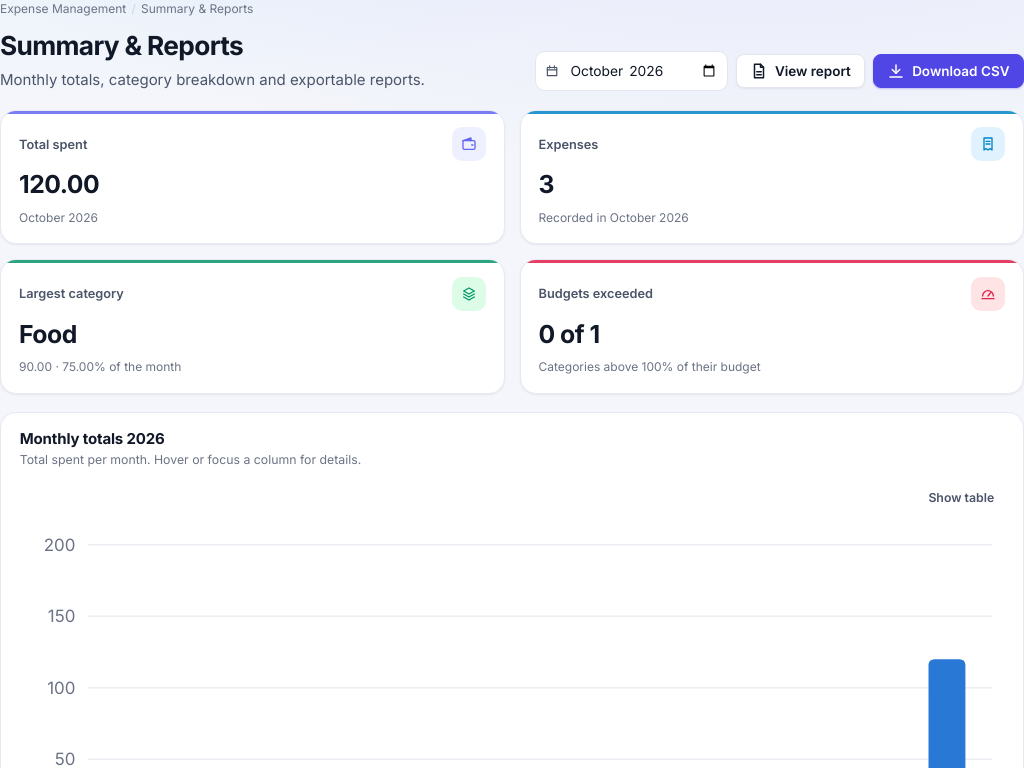
Scenario: ReportsPage › report API error → shown as an alert
Click the button "Download CSV".
click(948, 71)  # box x1=873 y1=54 x2=1023 y2=88
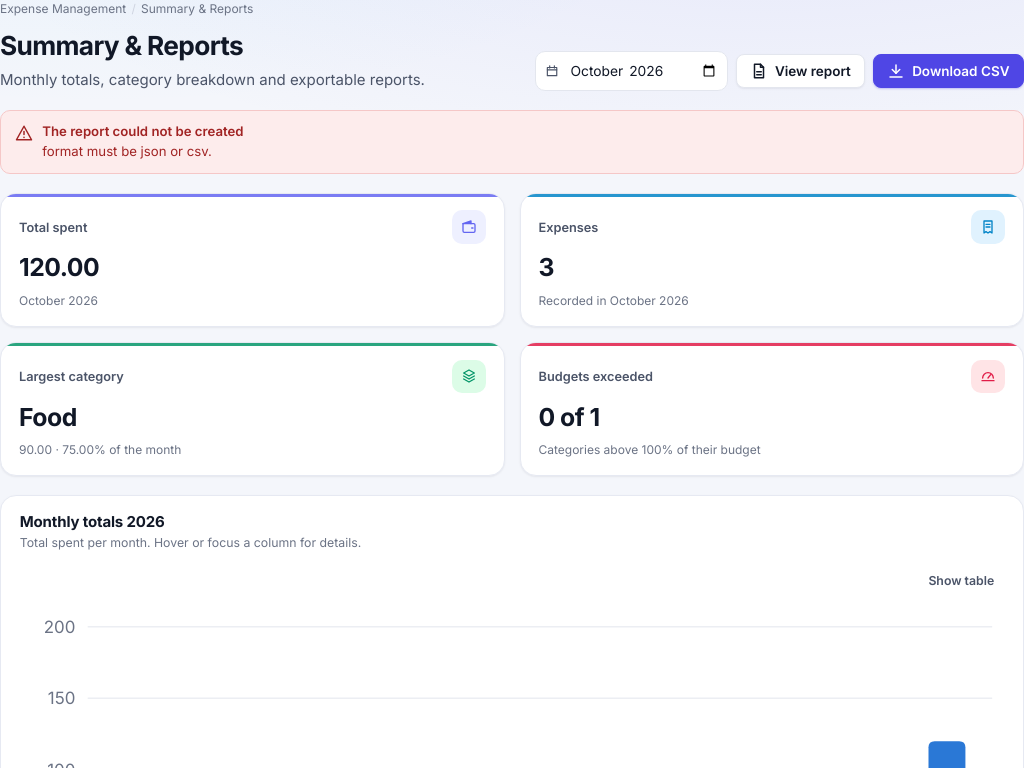
Result: the message shows "format must be json or csv." at x1=42 y1=143 x2=212 y2=159
